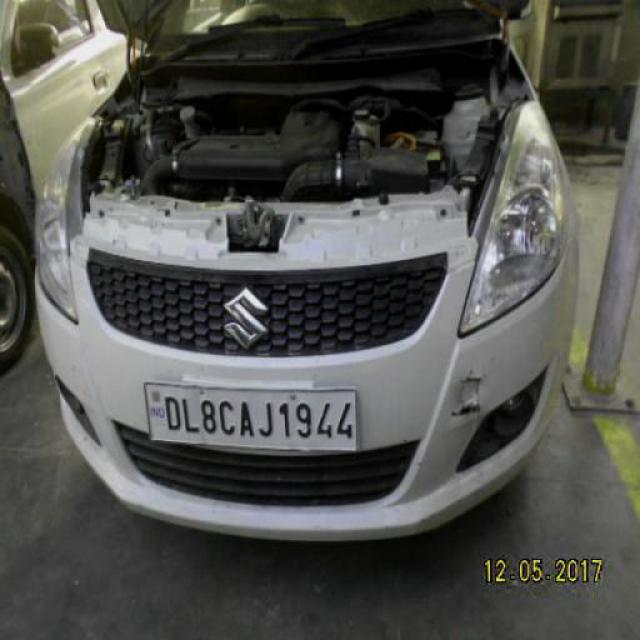Car-Damage: (457, 366, 483, 426)
